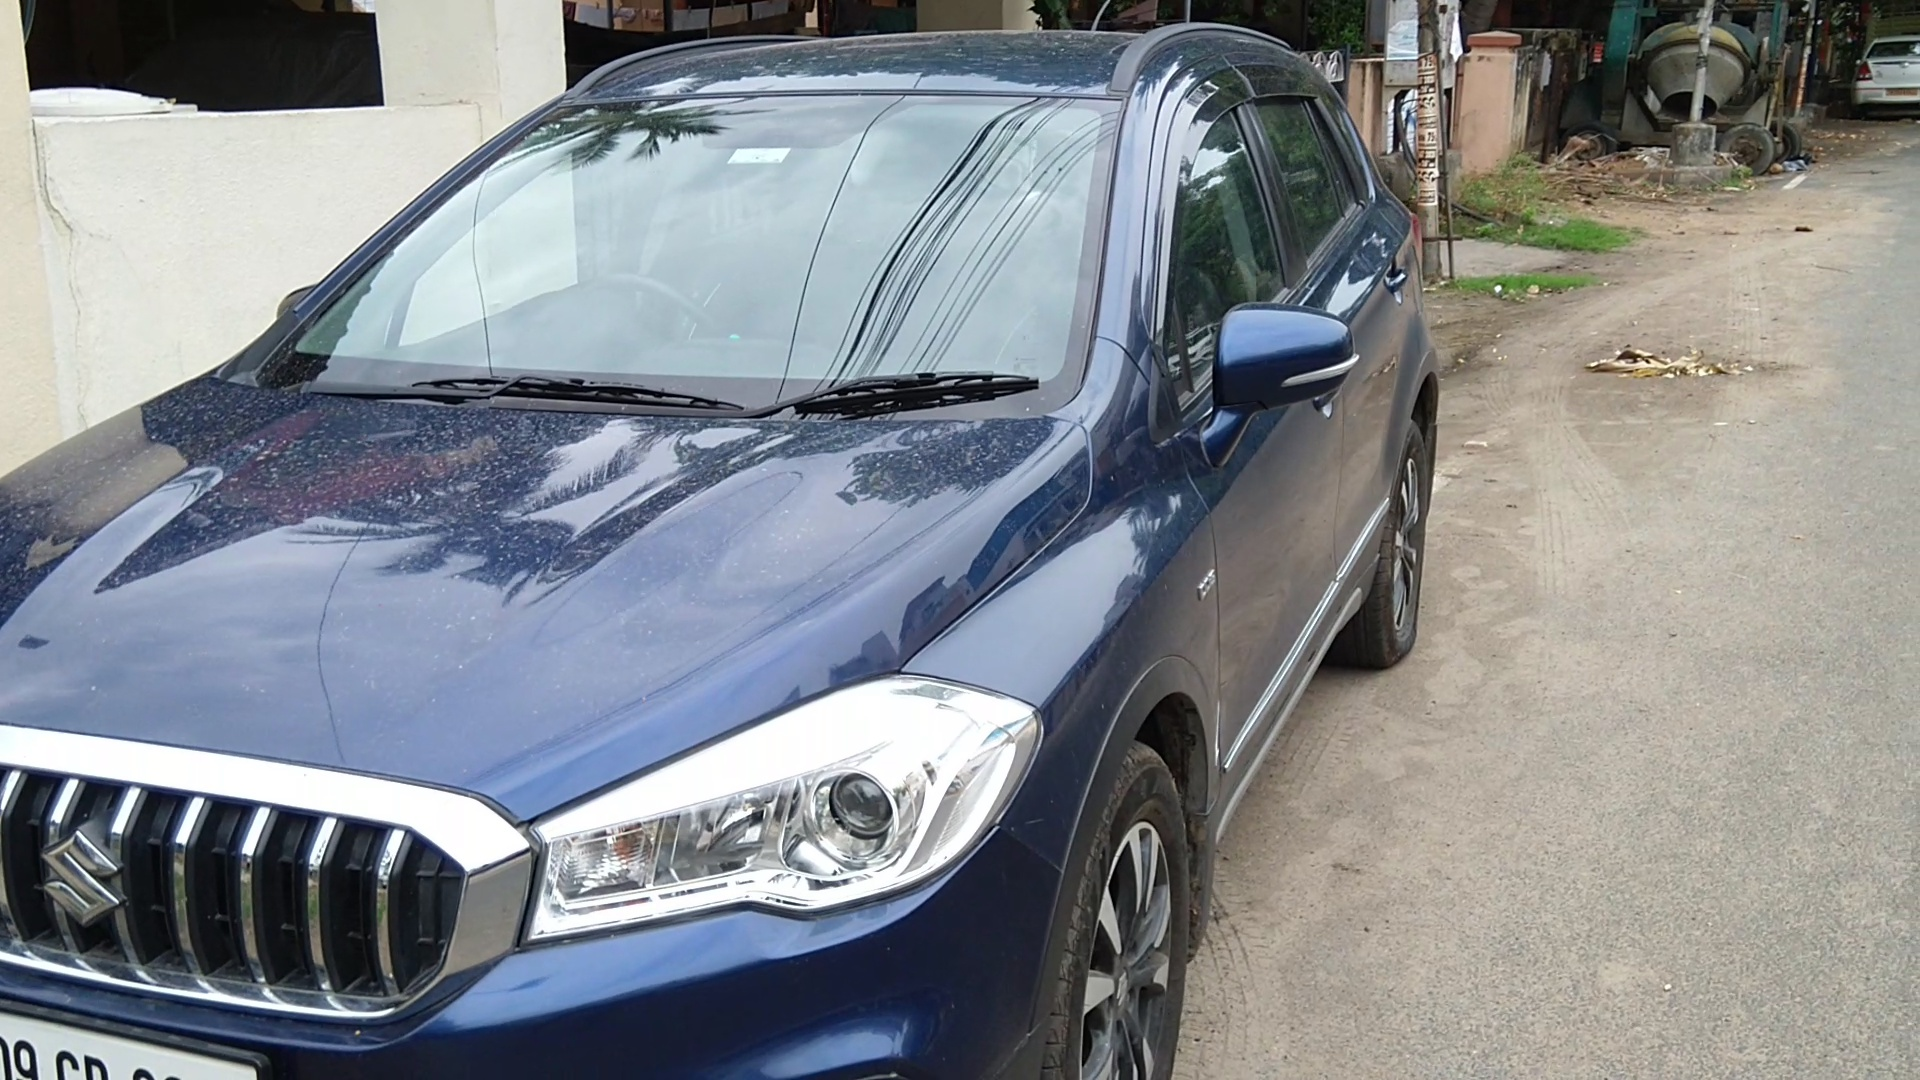headlamp: (520, 658, 1054, 996)
ovr_mirror: (1208, 293, 1367, 422)
